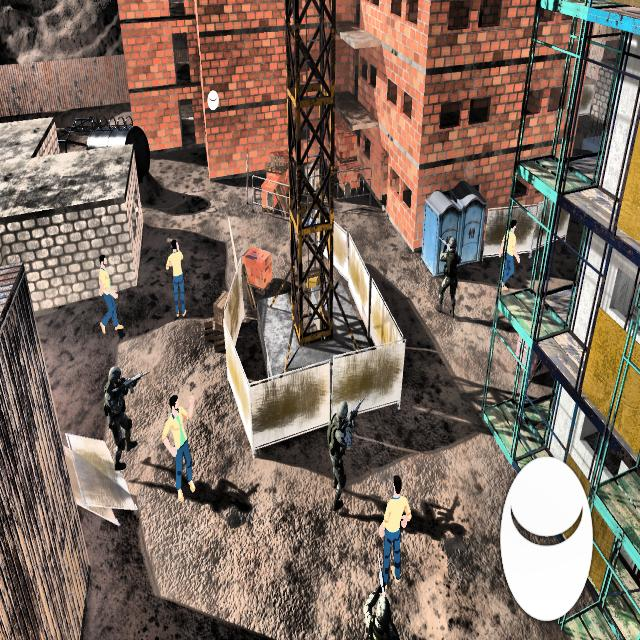bad: (100, 348, 142, 476), (323, 391, 363, 516), (431, 218, 466, 317), (352, 573, 401, 640)
good: (157, 387, 201, 499), (372, 457, 408, 592), (91, 247, 126, 340), (164, 231, 192, 326), (497, 208, 521, 294)
